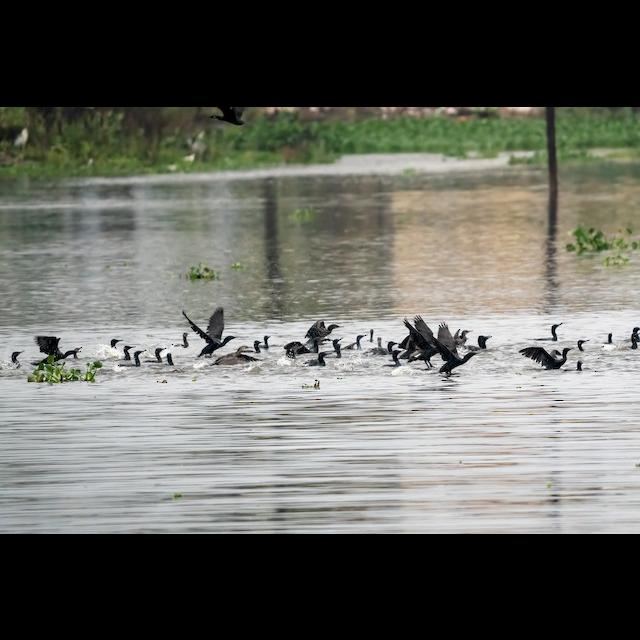cormorant: (180, 305, 237, 357), (424, 336, 480, 376), (28, 332, 82, 368), (514, 345, 576, 373), (303, 319, 347, 335), (302, 348, 332, 367), (543, 321, 567, 341), (149, 344, 167, 361), (120, 342, 132, 354)
